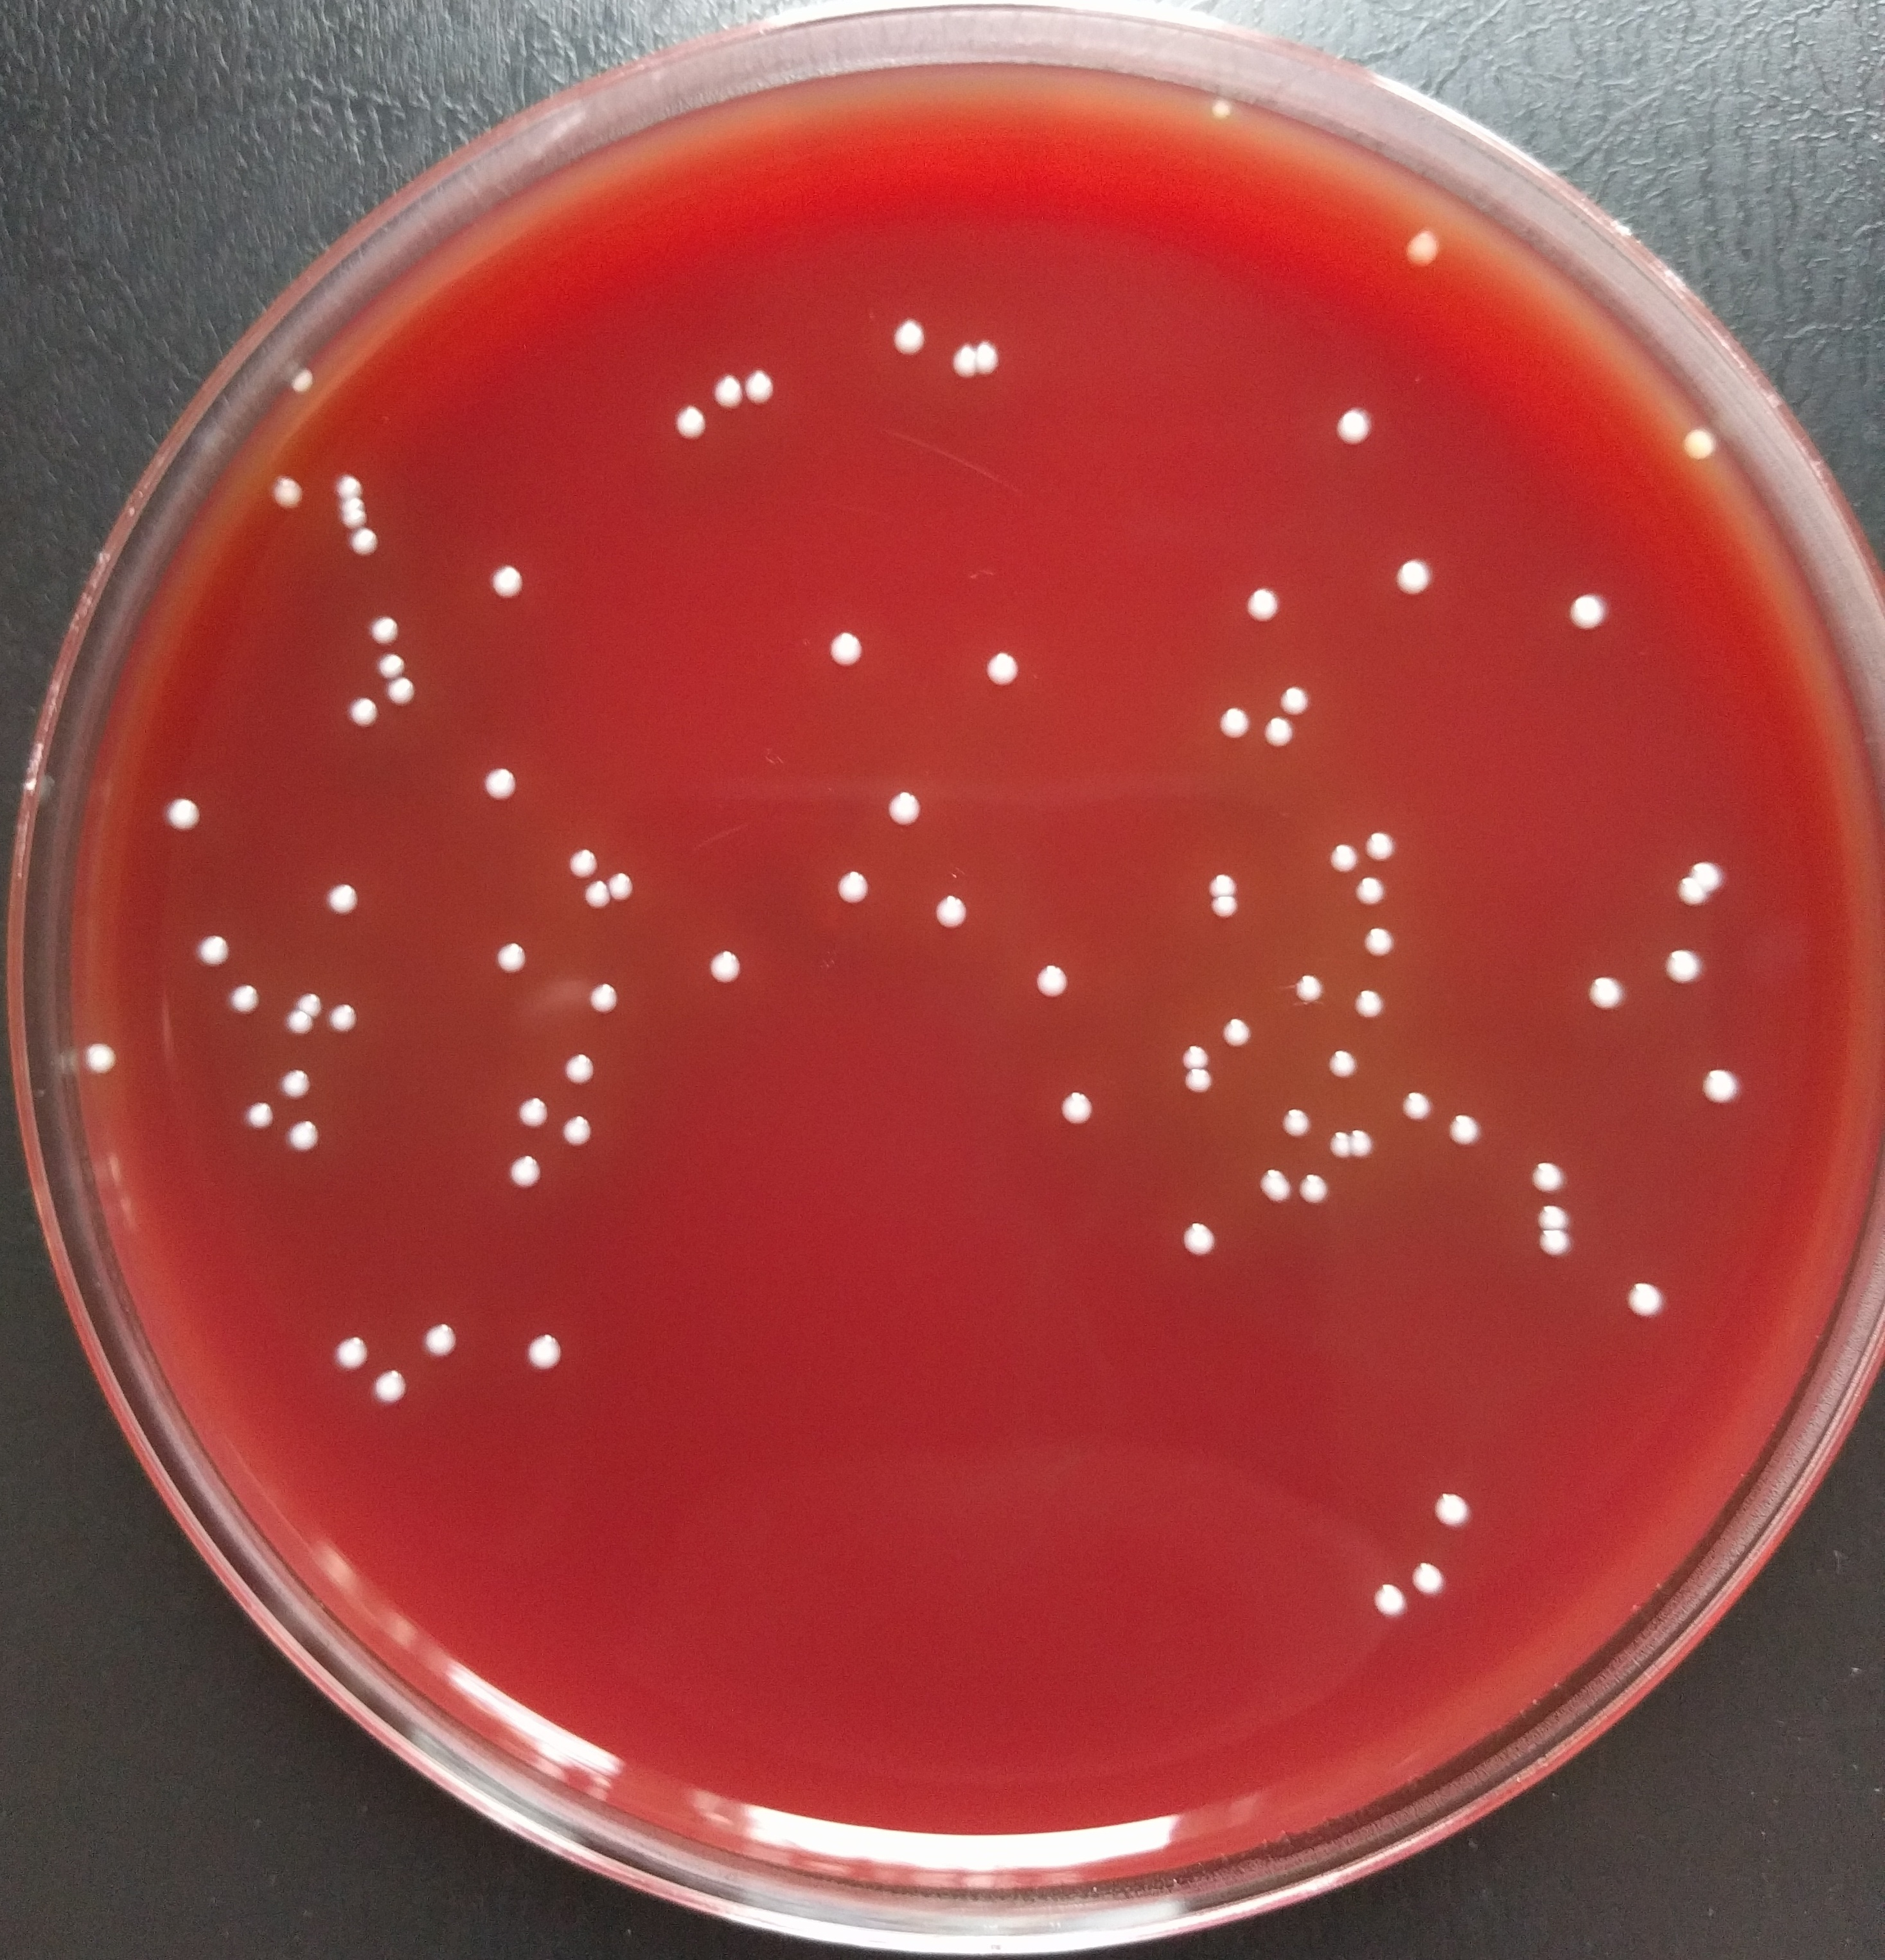sp24: (1015, 949, 1080, 1008), (1663, 418, 1729, 476), (1388, 221, 1460, 271), (312, 870, 375, 926), (1346, 968, 1398, 1033), (152, 788, 217, 838), (1353, 907, 1404, 970), (252, 466, 317, 513), (518, 1325, 578, 1376), (922, 887, 985, 935), (1671, 856, 1734, 903), (481, 551, 536, 606), (949, 336, 1003, 390), (1559, 586, 1615, 639), (579, 968, 634, 1020), (553, 1041, 609, 1092), (324, 1325, 380, 1376), (217, 977, 277, 1024), (1327, 399, 1379, 452), (333, 688, 385, 740), (485, 928, 539, 978), (77, 1034, 131, 1085), (1439, 1104, 1493, 1155), (469, 756, 525, 805), (817, 627, 875, 674), (277, 1115, 334, 1162), (1384, 553, 1442, 600), (700, 942, 758, 989), (1171, 1215, 1230, 1260), (880, 306, 931, 359), (1654, 942, 1706, 992), (366, 1365, 420, 1414), (823, 863, 877, 912), (501, 1150, 553, 1199), (411, 1313, 462, 1362), (341, 520, 390, 571), (1050, 1081, 1103, 1129), (1692, 1061, 1748, 1104), (268, 984, 326, 1025), (667, 397, 716, 446), (1426, 1482, 1477, 1530), (1239, 579, 1286, 628), (1579, 968, 1629, 1013), (739, 357, 786, 404), (1323, 1040, 1370, 1087), (280, 355, 326, 404), (978, 646, 1027, 691), (558, 1108, 607, 1153), (305, 984, 354, 1029), (1195, 865, 1248, 907), (1391, 1078, 1440, 1122), (1197, 887, 1248, 929), (1517, 1152, 1572, 1190), (1530, 1223, 1584, 1262), (938, 327, 977, 382), (882, 786, 928, 831), (506, 1081, 550, 1129), (1262, 707, 1309, 751), (278, 1048, 322, 1094), (1178, 1059, 1223, 1103), (189, 928, 240, 966), (1201, 88, 1244, 131), (1206, 698, 1251, 740), (1621, 1278, 1668, 1318), (324, 996, 375, 1033), (362, 604, 406, 646), (1283, 970, 1334, 1005), (1271, 1099, 1316, 1138), (1356, 863, 1390, 915), (1363, 823, 1405, 863), (1318, 835, 1358, 877), (1407, 1556, 1447, 1598), (385, 660, 425, 702), (551, 838, 595, 877), (1370, 1577, 1407, 1622), (1278, 676, 1320, 714), (235, 1090, 273, 1132), (1300, 1166, 1342, 1204), (609, 863, 653, 900), (1335, 1120, 1376, 1159), (1216, 1008, 1255, 1047), (219, 968, 261, 1003), (718, 368, 754, 406), (1244, 1162, 1285, 1197), (331, 462, 373, 495), (583, 877, 620, 914), (1360, 896, 1390, 938), (1538, 1218, 1573, 1251), (1174, 1034, 1208, 1068), (1181, 1059, 1215, 1090), (614, 856, 649, 884)
